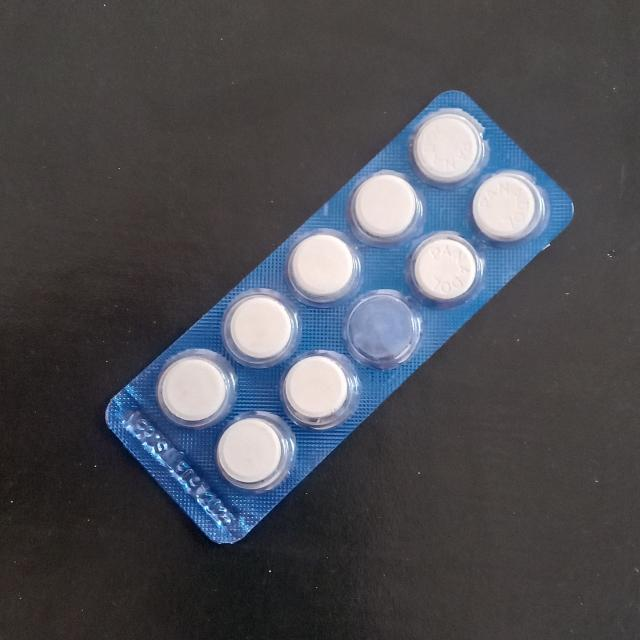defect: (345, 291, 420, 370)
